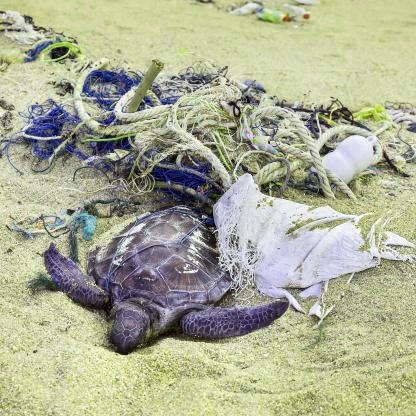Plastic: (324, 129, 373, 186)
